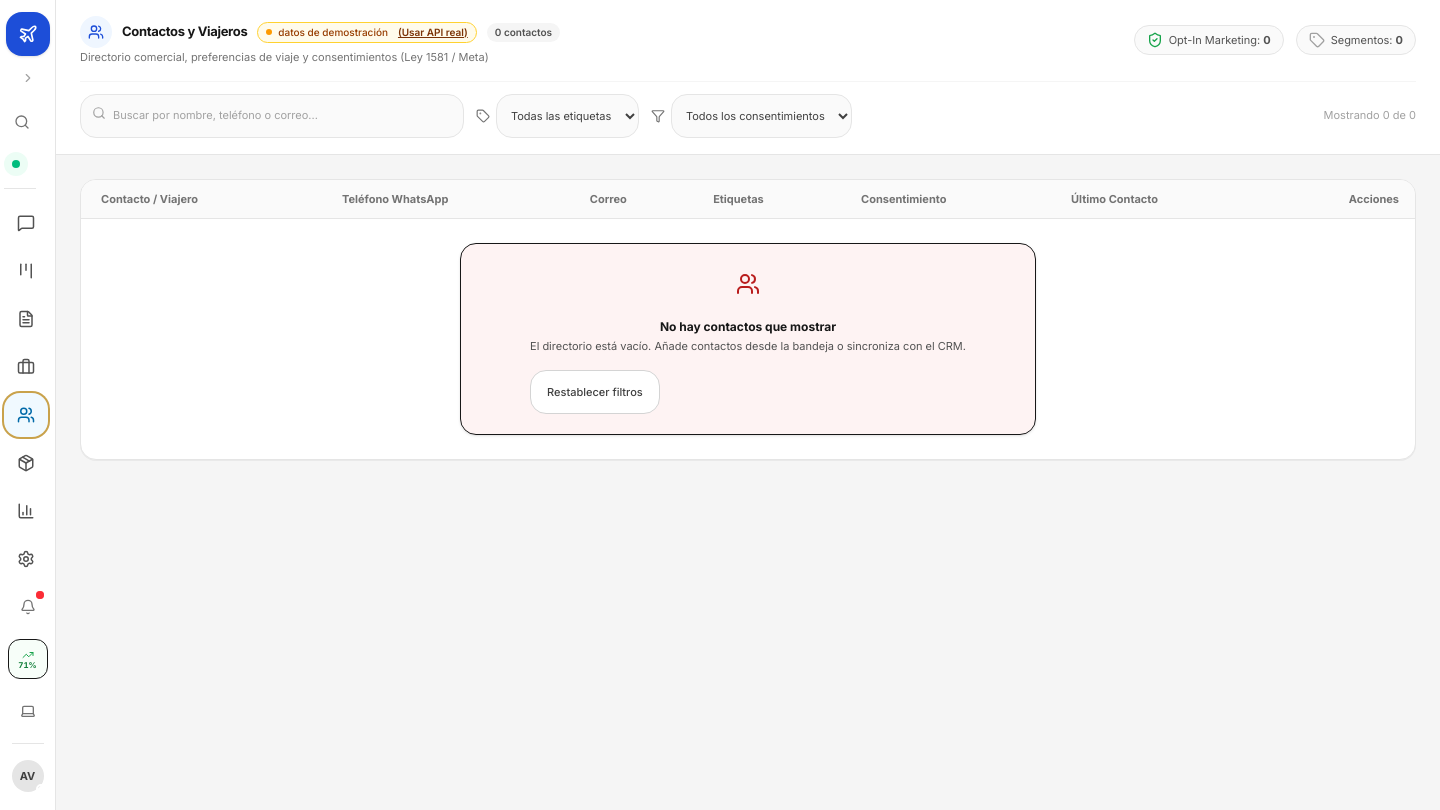
Test: ContactosPage — Estados de Carga, Error y Vacío (T-005) › Estado Vacío › muestra descripción contextual cuando hay búsqueda activa
Expected: the heading "No hay contactos que mostrar" is shown, [660,319,836,334]
Type "carlos" into the field with placeholder "Buscar por nombre, teléfono o correo..." at (272, 116), box [80,94,464,138]
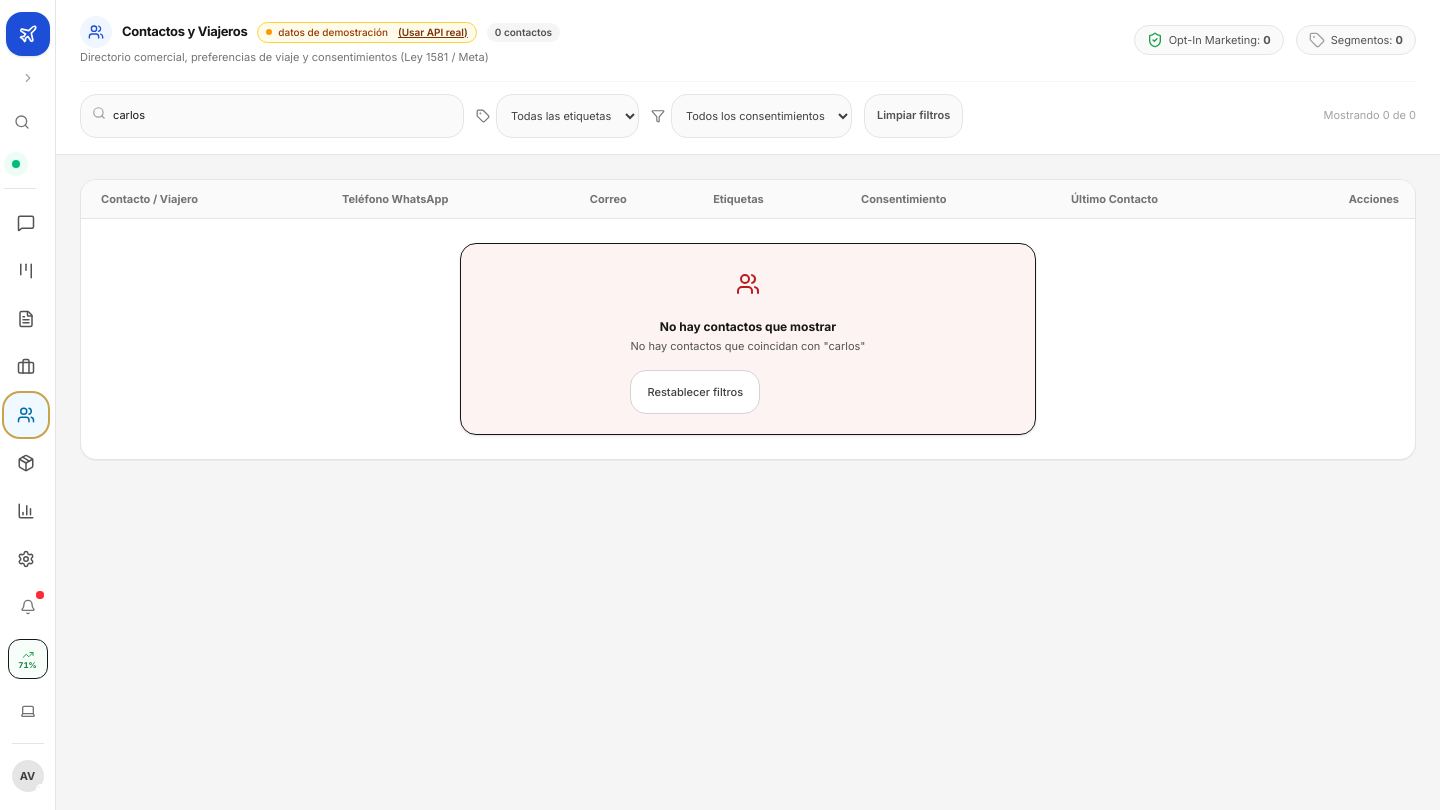
Expected: the text "No hay contactos que coincidan con \"carlos\"" is shown, [630,340,866,354]
